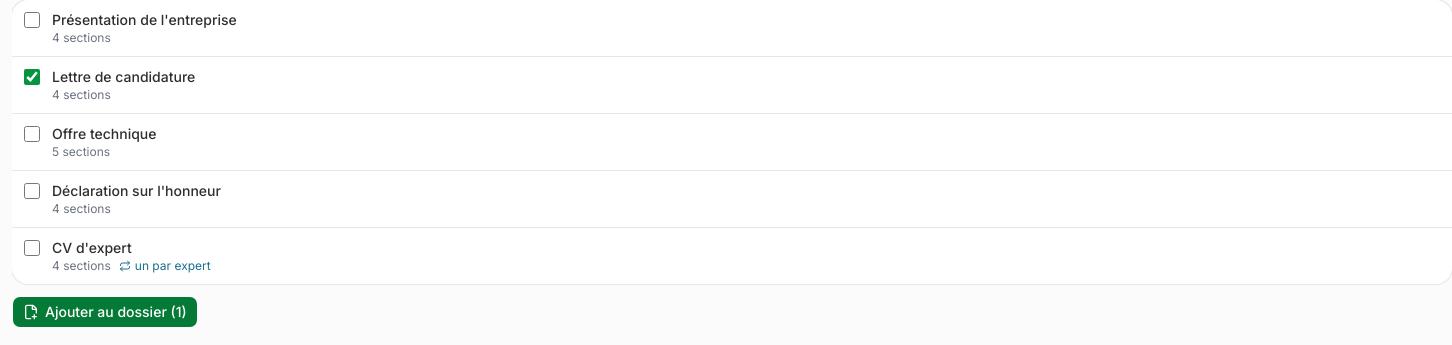
Test case: TemplatePicker › cannot add nothing
The width and height of the screenshot is (1452, 345).
Click the checkbox labelled "Lettre de candidature": (32, 77) [24,69,40,85]
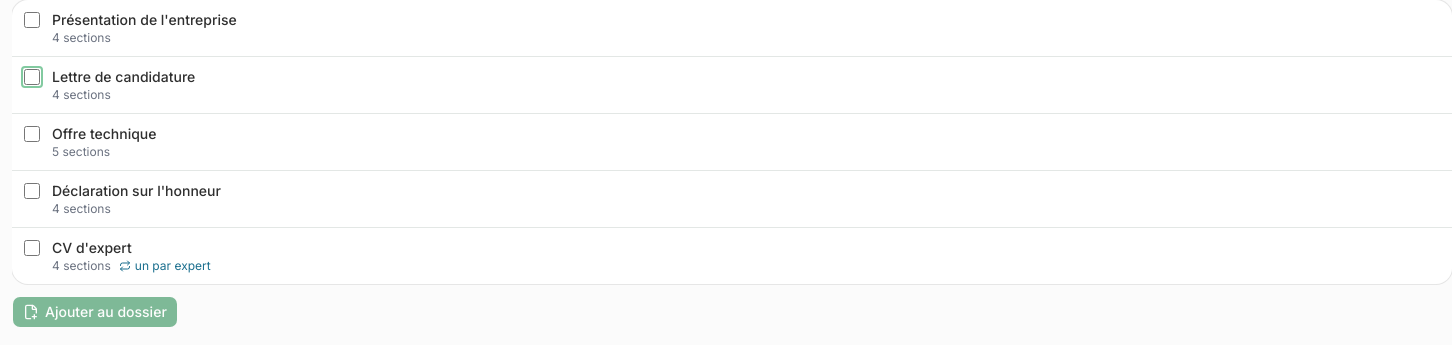
Expected: the button "Ajouter au dossier" is disabled, [12,296,178,328]
